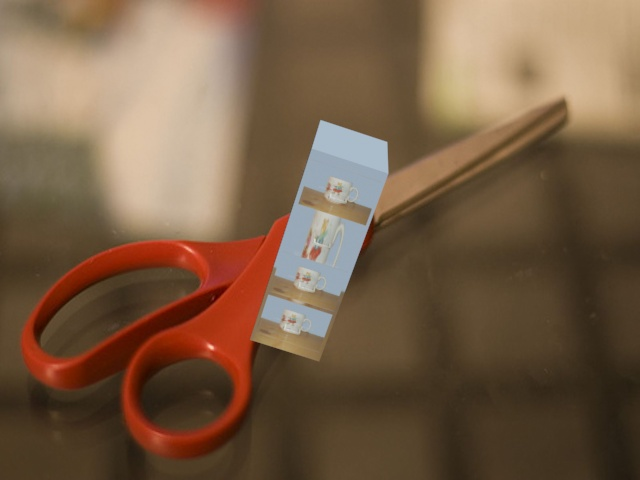file_cabinet: (240, 113, 400, 368)
